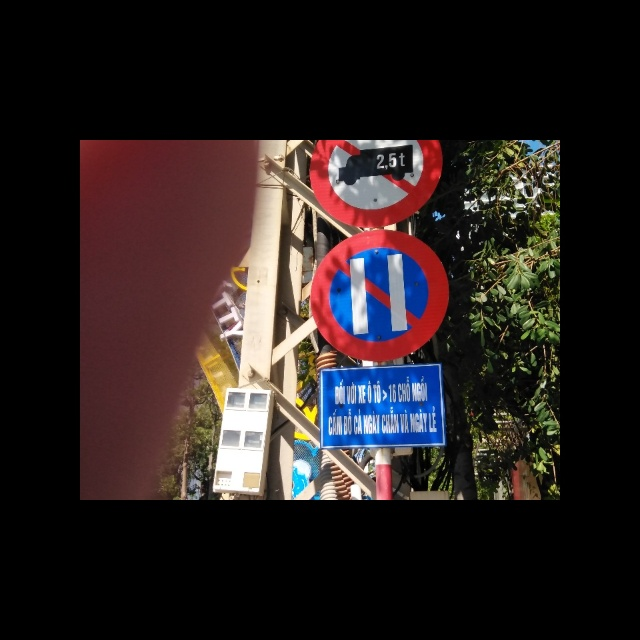Cấm đỗ xe ngày chẵn: (305, 229, 451, 361)
